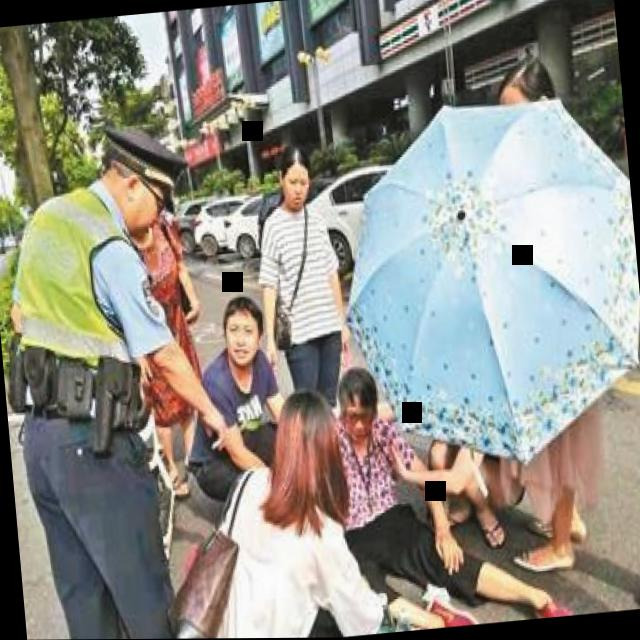Fall-Detected: (301, 328, 555, 638)
